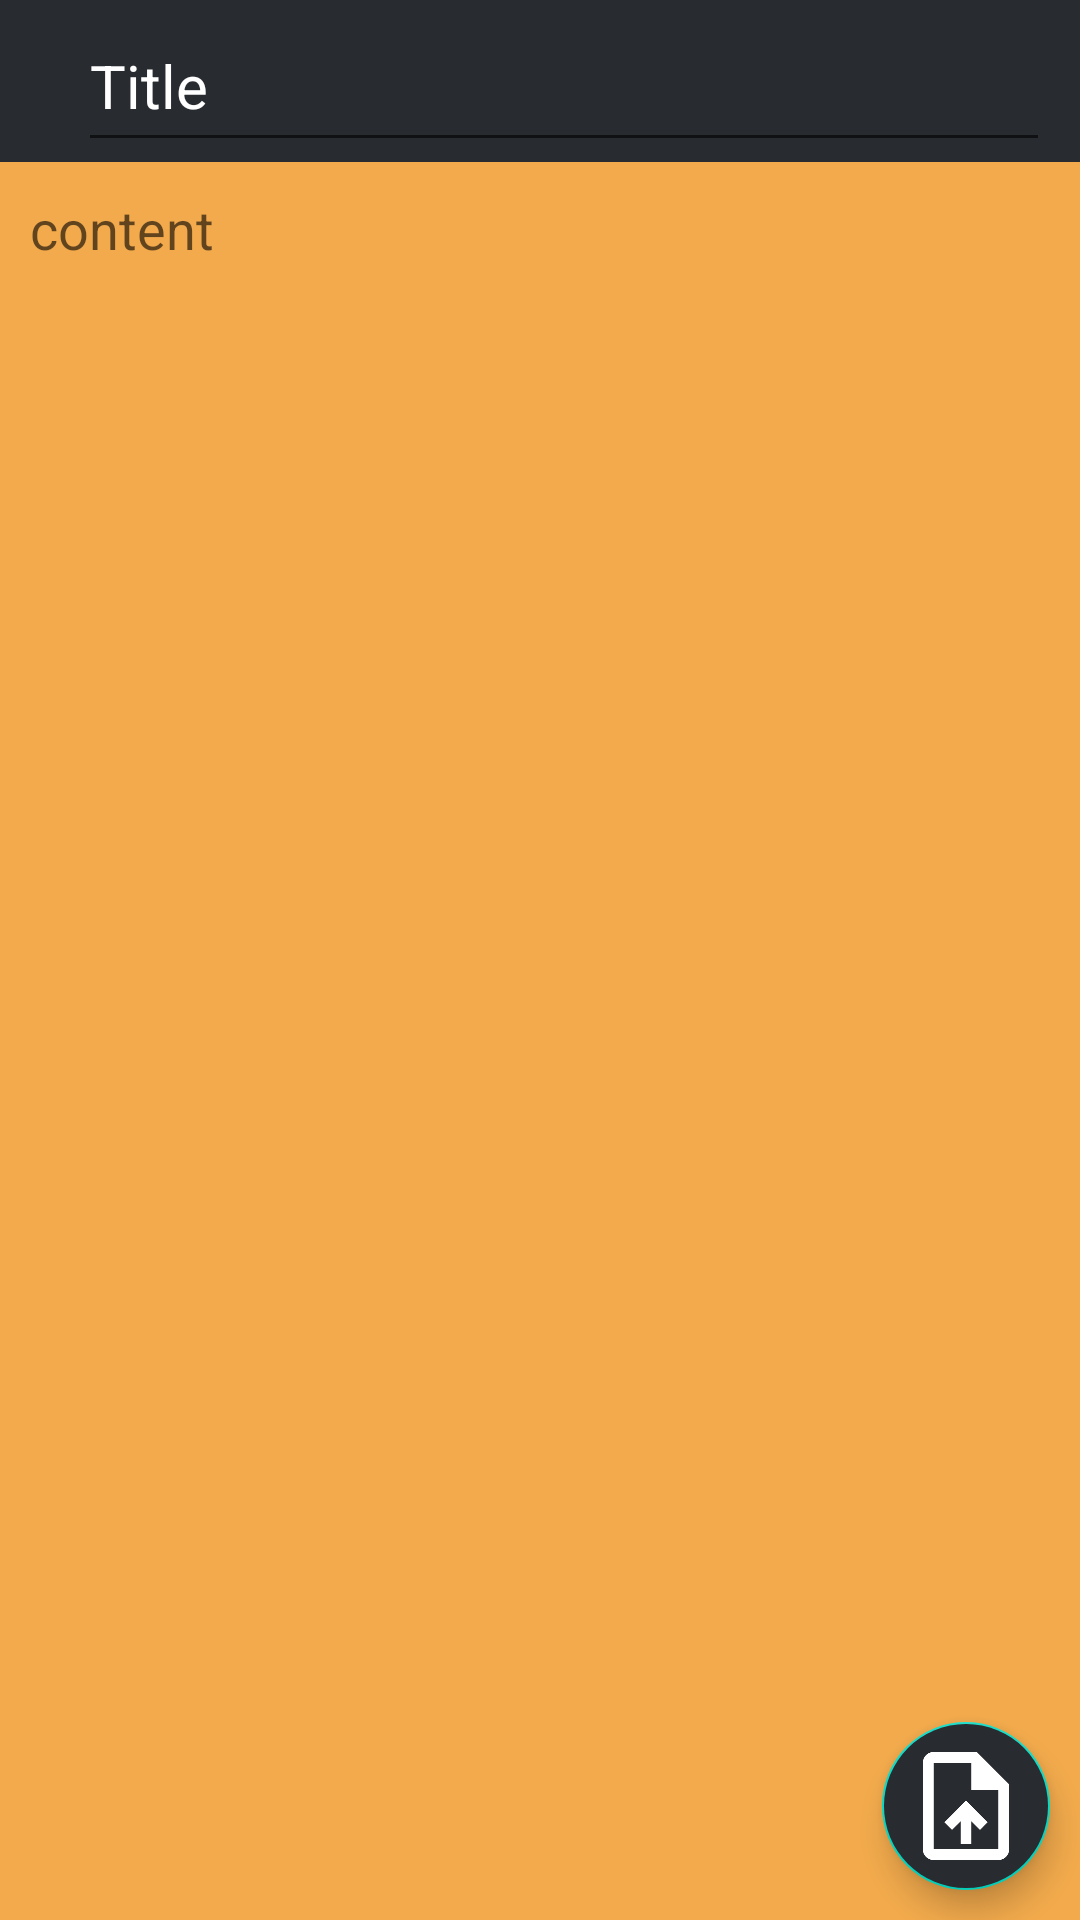

Point at icon controls on the screen. Image size 1080 x 1920, points as (x=x, y=y).
update: (x=966, y=1806)
